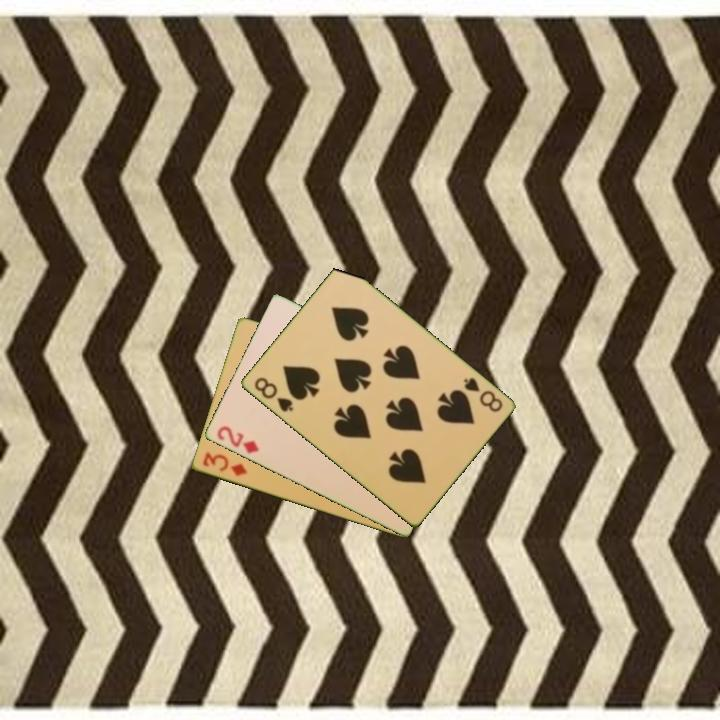2d: (213, 422, 261, 456)
3d: (199, 448, 250, 479)
8s: (250, 373, 296, 415), (459, 374, 505, 415)
